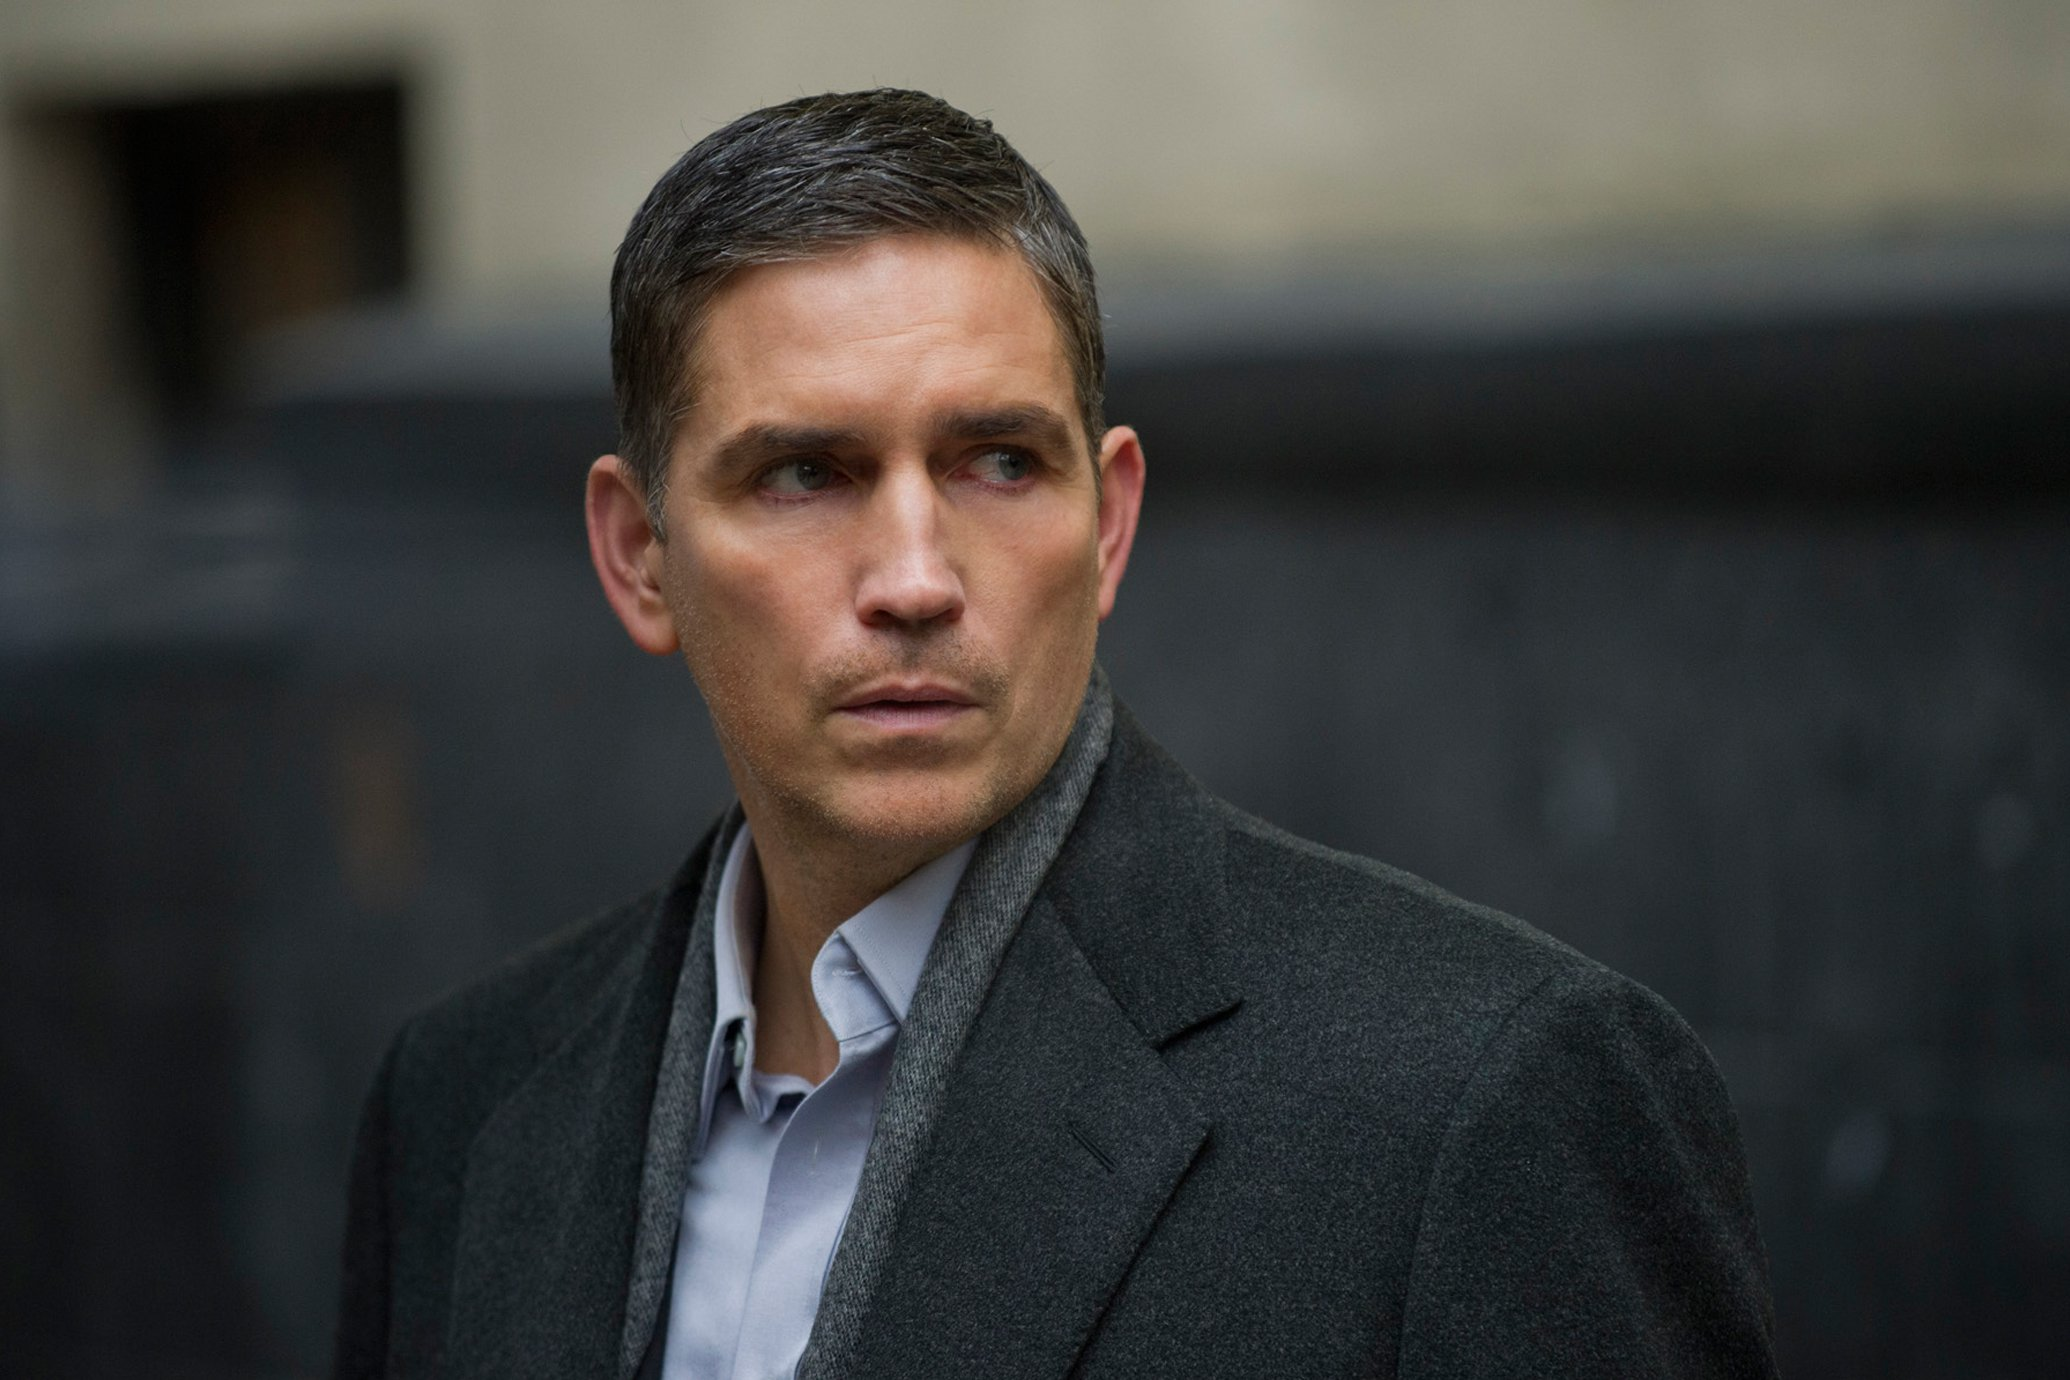noMask: (517, 96, 1184, 850)
